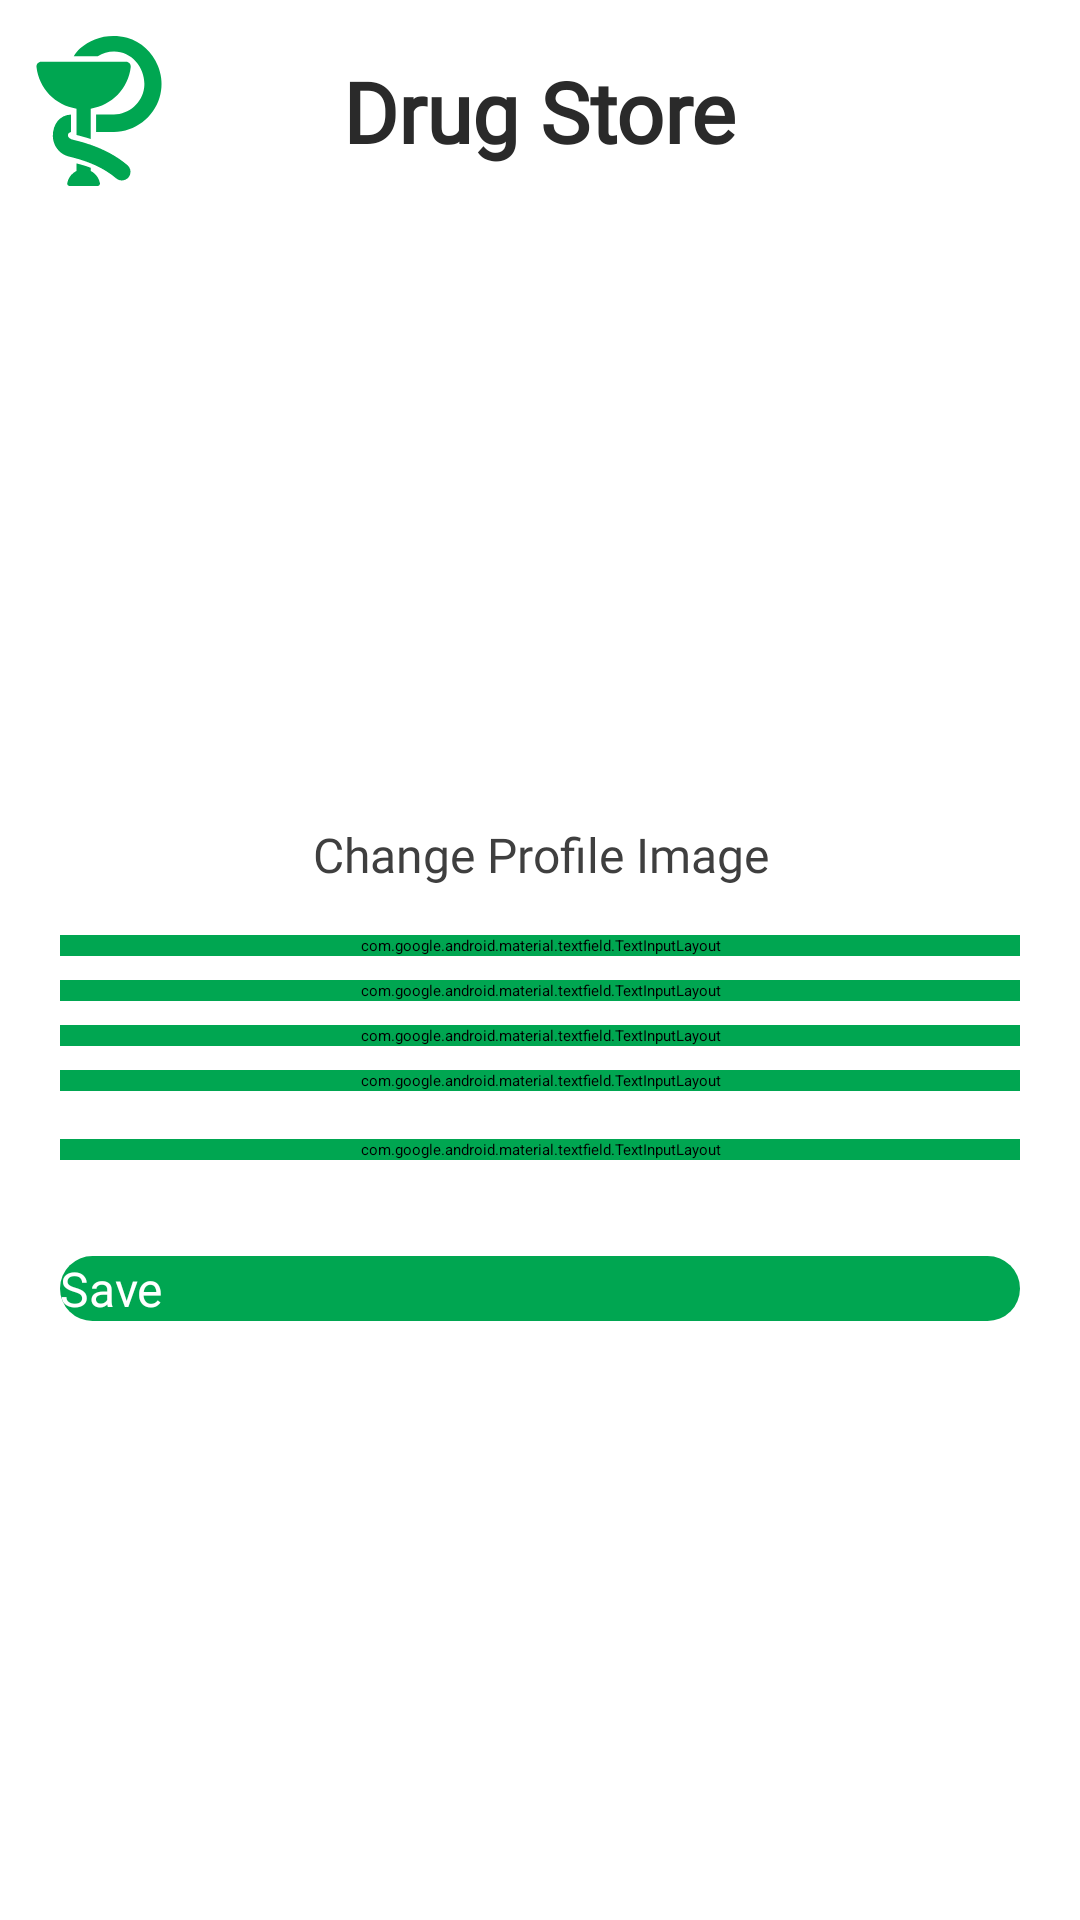

Point at icon controls on the screen. Image size 1080 x 1920, points as [x,y].
pharmacy: [99,111]
